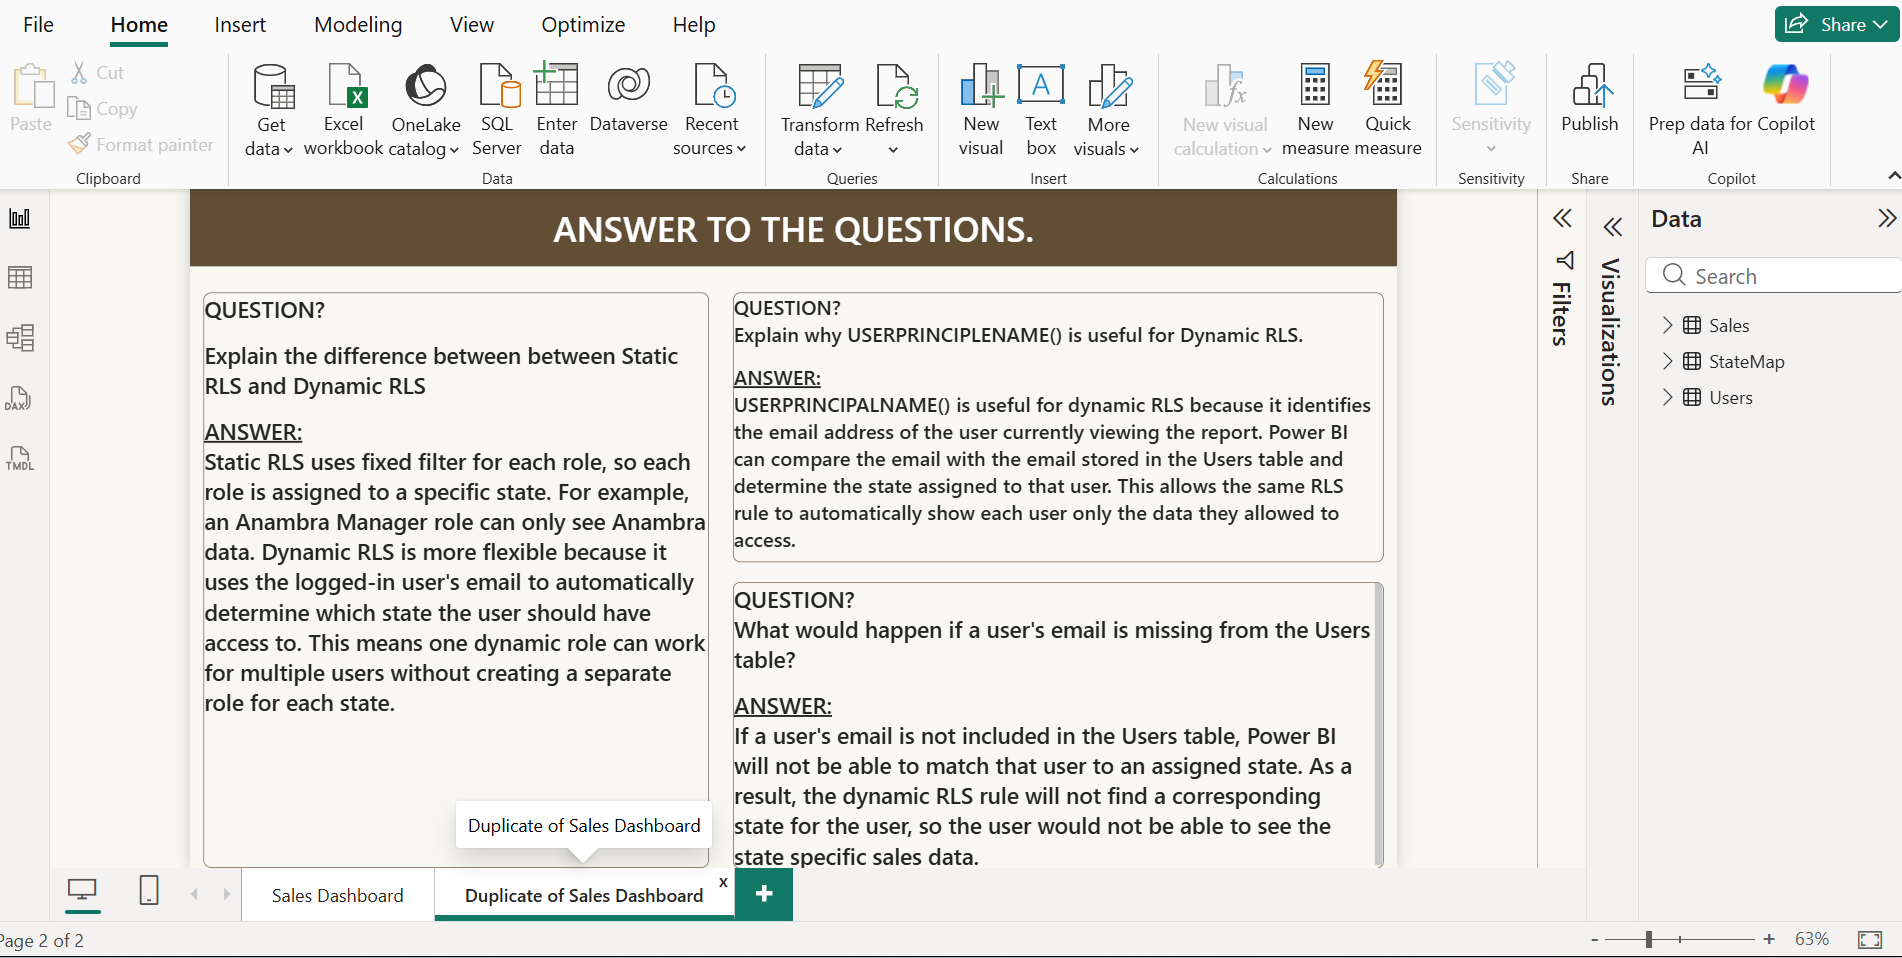

This screenshot's page, from the dashboard's own definition file:
{"tool":"powerbi","page":{"name":"Duplicate of Sales Dashboard","canvas":[1280,720],"ordinal":1},"visuals":[{"type":"textbox","box":[0,0,1280,82],"z":0},{"type":"textbox","box":[14,110,536,610],"z":1000},{"type":"textbox","box":[576,110,690,286],"z":2000},{"type":"textbox","box":[576,416,690,304],"z":3000}]}

Visuals, with their boxes on the page's 1280x720 design canvas (x1, y1, x2, y2). These are canvas units, not pixel positions in the 1902x958 screenshot, which may show the page scaled, cropped or inside an application window:
textbox: 0, 0, 1280, 82
textbox: 14, 110, 550, 720
textbox: 576, 110, 1266, 396
textbox: 576, 416, 1266, 720
